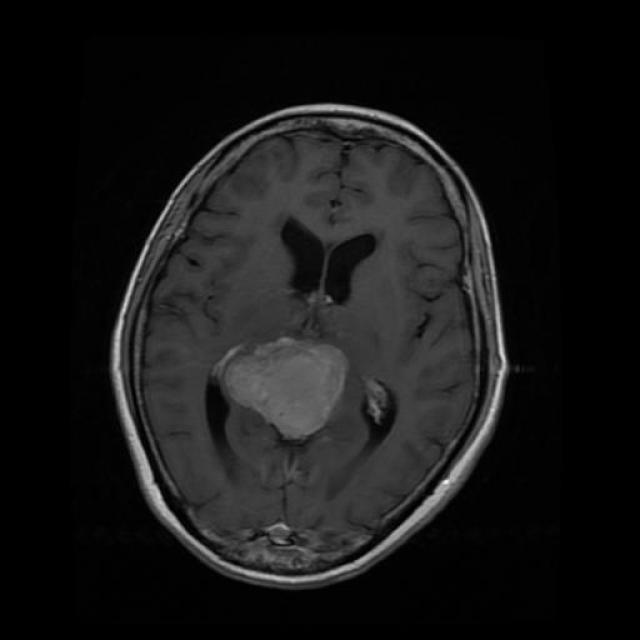meningioma: (218, 322, 338, 442)
